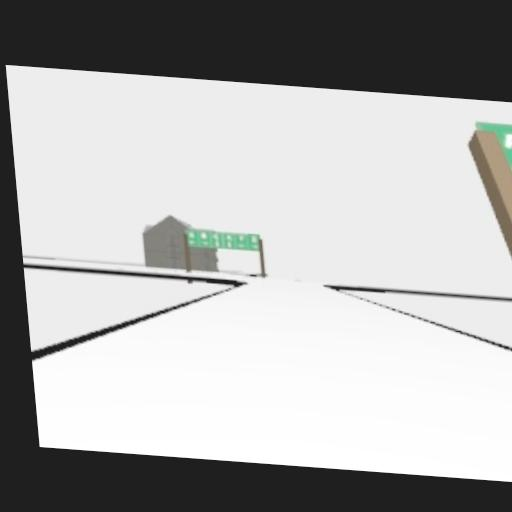A: (500, 131, 512, 149)
Left: (509, 164, 512, 175)
